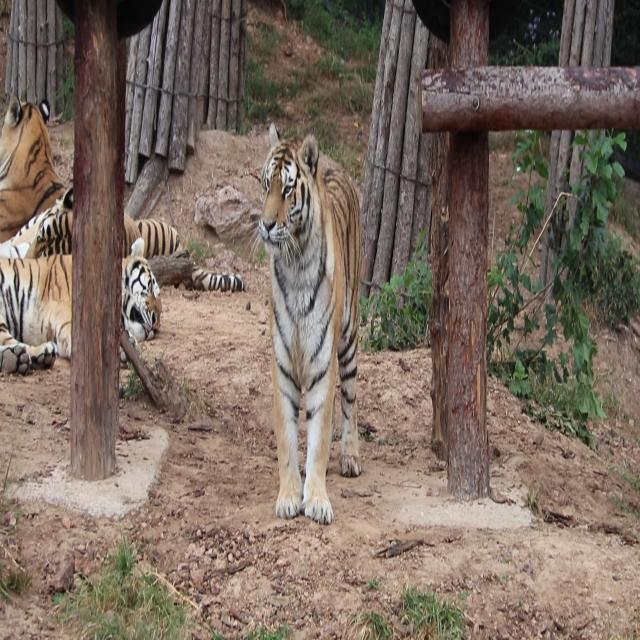Tiger: (257, 111, 385, 537), (0, 92, 194, 258), (1, 251, 165, 378), (1, 194, 143, 293)
